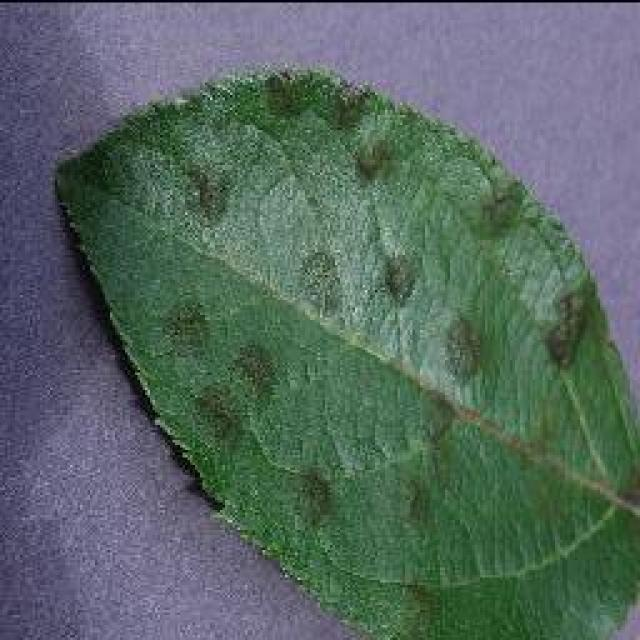apple scab disease: (50, 60, 638, 638)
